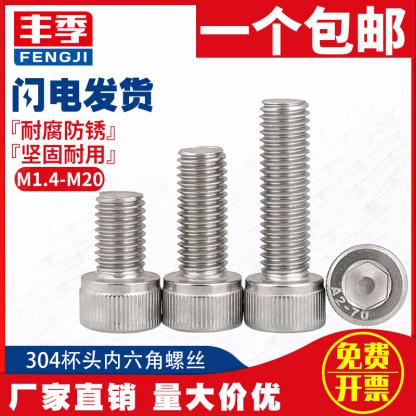FOD: (243, 96, 328, 335), (160, 142, 243, 334), (80, 191, 162, 334), (324, 240, 408, 328)
